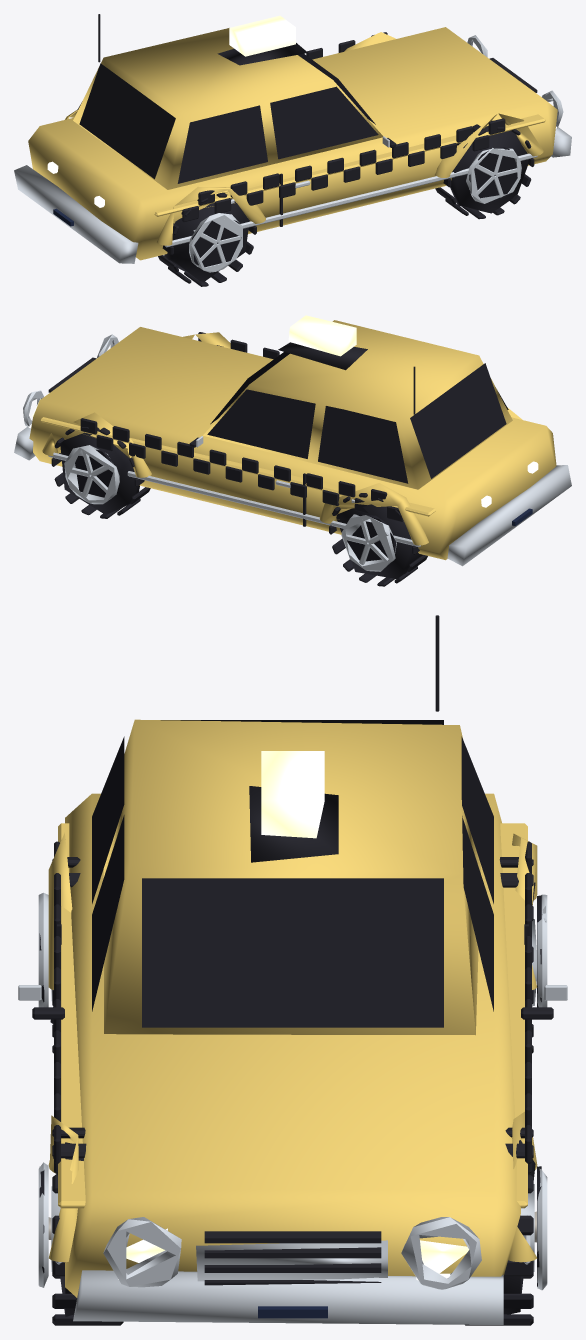
Rendered from taxi.glb.
3 views of the same model, one above another, from view 1: azimuth 30°, elevation 25°; view 2: azimuth 150°, elevation 25°; view 3: azimuth 270°, elevation 25° (orthographic). The views are drawn at different scales.
Visible parts, largest first — view 1: taxi; view 2: taxi; view 3: taxi.
Part boxes in pixels (x1,y1,x2,y2): taxi: [14, 14, 571, 286]; taxi: [14, 315, 571, 586]; taxi: [18, 615, 567, 1325].
Size of the model in its own units: 4.59 by 1.94 by 2.36.
1 material, 1 textured.
